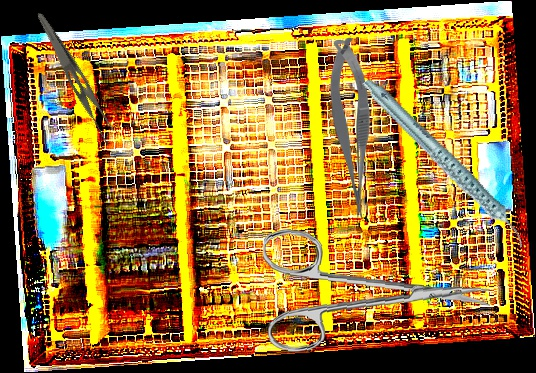Dressing Forceps: (22, 11, 125, 146)
Handpiece: (360, 52, 528, 276)
Iris Scissors: (257, 228, 494, 362)
Micro Scissor: (329, 37, 371, 220)
